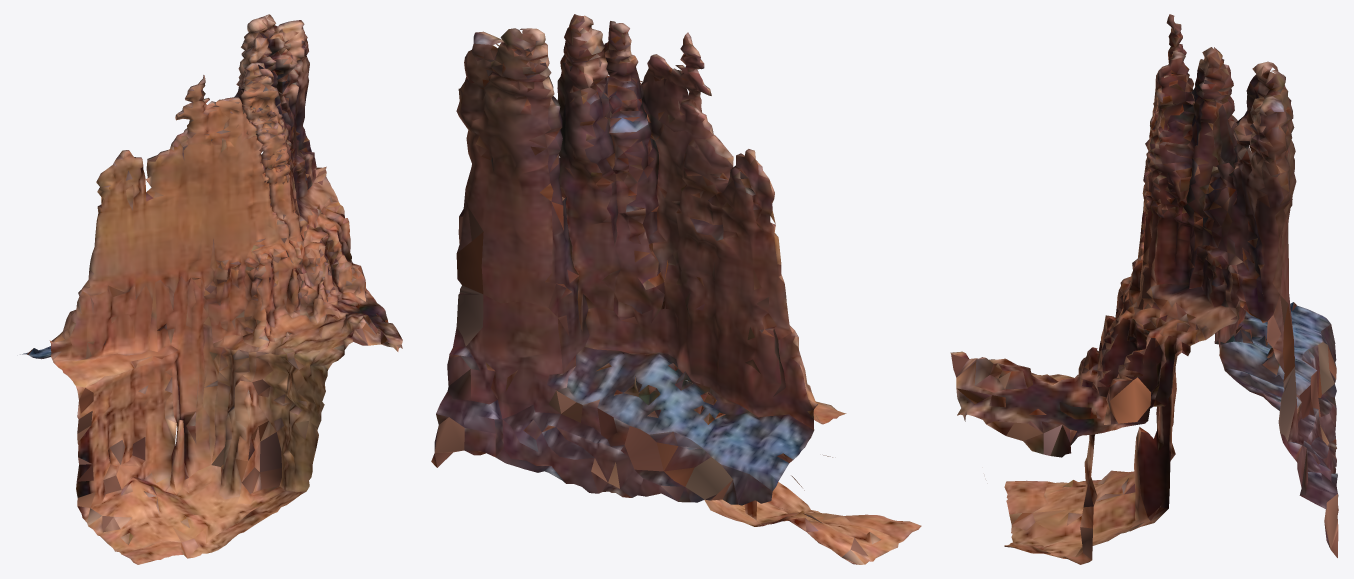
The model's file is low-resolution-model-1.glb.
3 views of the same model, side by side, from view 1: azimuth 30°, elevation 25°; view 2: azimuth 150°, elevation 25°; view 3: azimuth 270°, elevation 25° (orthographic). The views are drawn at different scales.
Parts seen in each view (by area): view 1: ancientart; view 2: ancientart; view 3: ancientart.
Part boxes in pixels (x1=…): ancientart: x1=20, y1=14, x2=402, y2=564; ancientart: x1=431, y1=14, x2=921, y2=564; ancientart: x1=950, y1=14, x2=1338, y2=564.
Size of the model in its own units: 90.18 by 132 by 81.45.
Materials: 1 (1 with a texture image).
